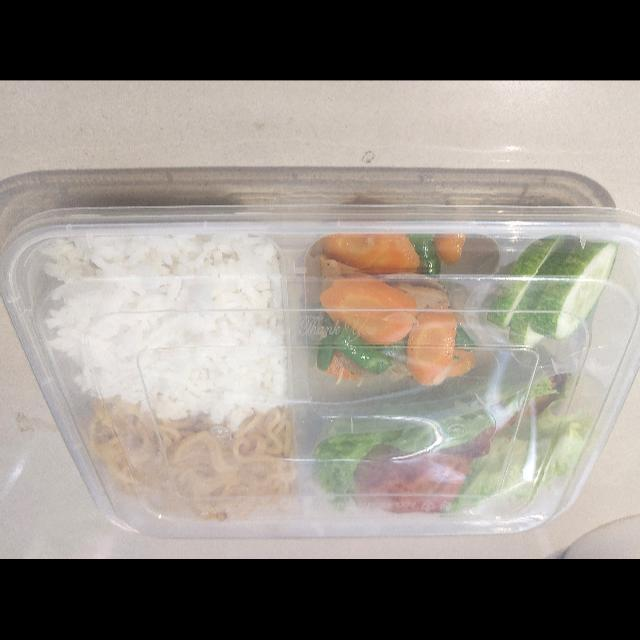bento: (0, 200, 640, 538)
